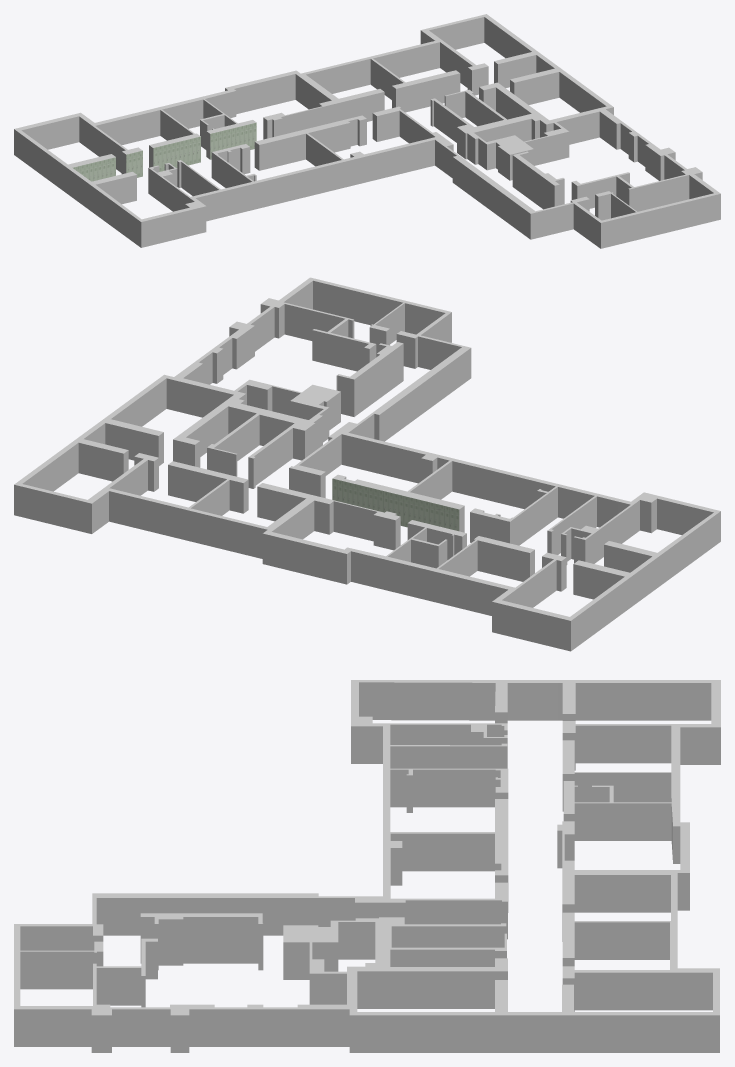
The model's file is FloorPlan.dae.
3 renders of one model, top to bottom at view 1: azimuth 30°, elevation 25°; view 2: azimuth 150°, elevation 25°; view 3: azimuth 270°, elevation 25°, orthographic. The views are drawn at different scales.
Visible parts, largest first — view 1: SketchUp (×11); view 2: SketchUp (×9); view 3: SketchUp (×8).
Part boxes in pixels (left/top/right/bottom): SketchUp (×11): left=14, top=14, right=720, bottom=248; SketchUp (×9): left=14, top=277, right=720, bottom=651; SketchUp (×8): left=14, top=680, right=720, bottom=1052.
Size of the model in its own units: 1796 by 1601 by 116.
Materials: 2 (1 with a texture image).
